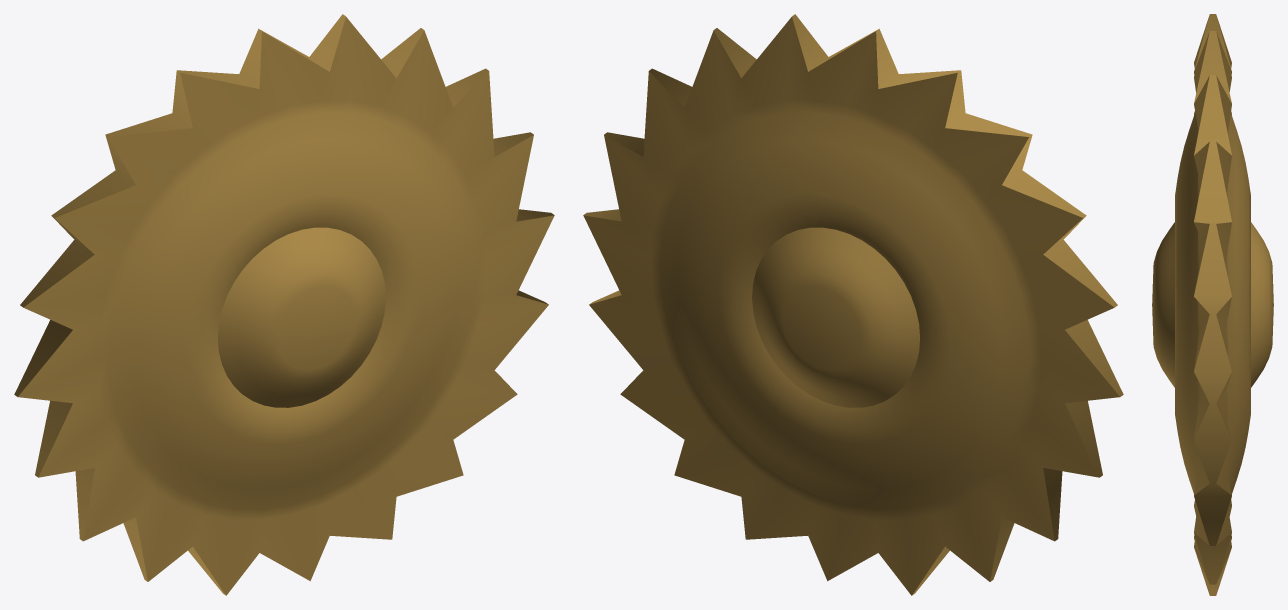
Rendered from obst.fbx.
3 renders of one model, left to right at view 1: azimuth 30°, elevation 25°; view 2: azimuth 150°, elevation 25°; view 3: azimuth 270°, elevation 25°, orthographic. The views are drawn at different scales.
Visible parts, largest first — view 1: pCylinder1; view 2: pCylinder1; view 3: pCylinder1.
Part boxes in pixels (left/top/right/bottom): pCylinder1: left=14, top=14, right=554, bottom=595; pCylinder1: left=583, top=14, right=1123, bottom=595; pCylinder1: left=1152, top=14, right=1273, bottom=595.
Bounding box in the file's own units: 3.58 × 3.58 × 0.7514.
